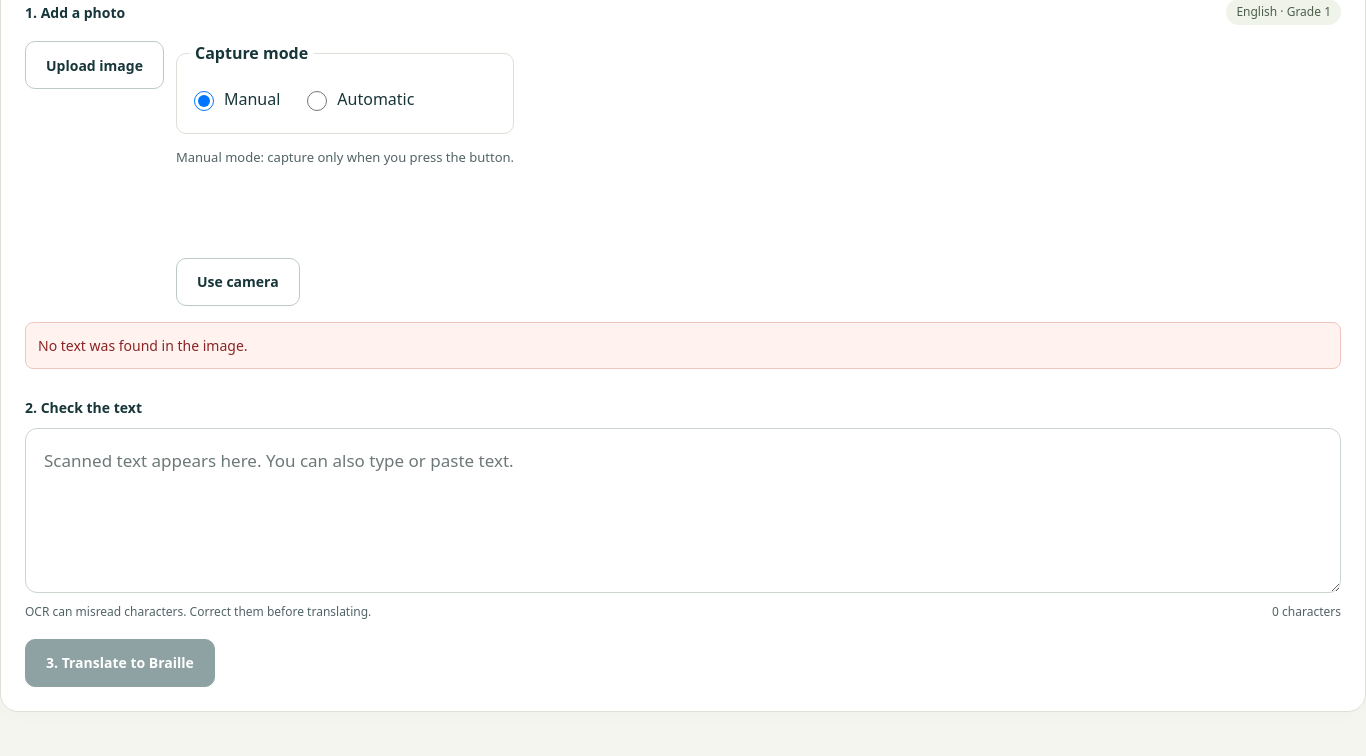
Test case: CameraPanel › shows OCR failures and keeps typing available
Earlier steps of the test are not shown.
(page scrolled)
Expected: the message "No text was found in the image." is shown, [25,322,1341,369]
Type "hi" into the text box labelled "2. Check the text". click: {"x": 683, "y": 510}
box: [25,428,1341,593]
(page scrolled)
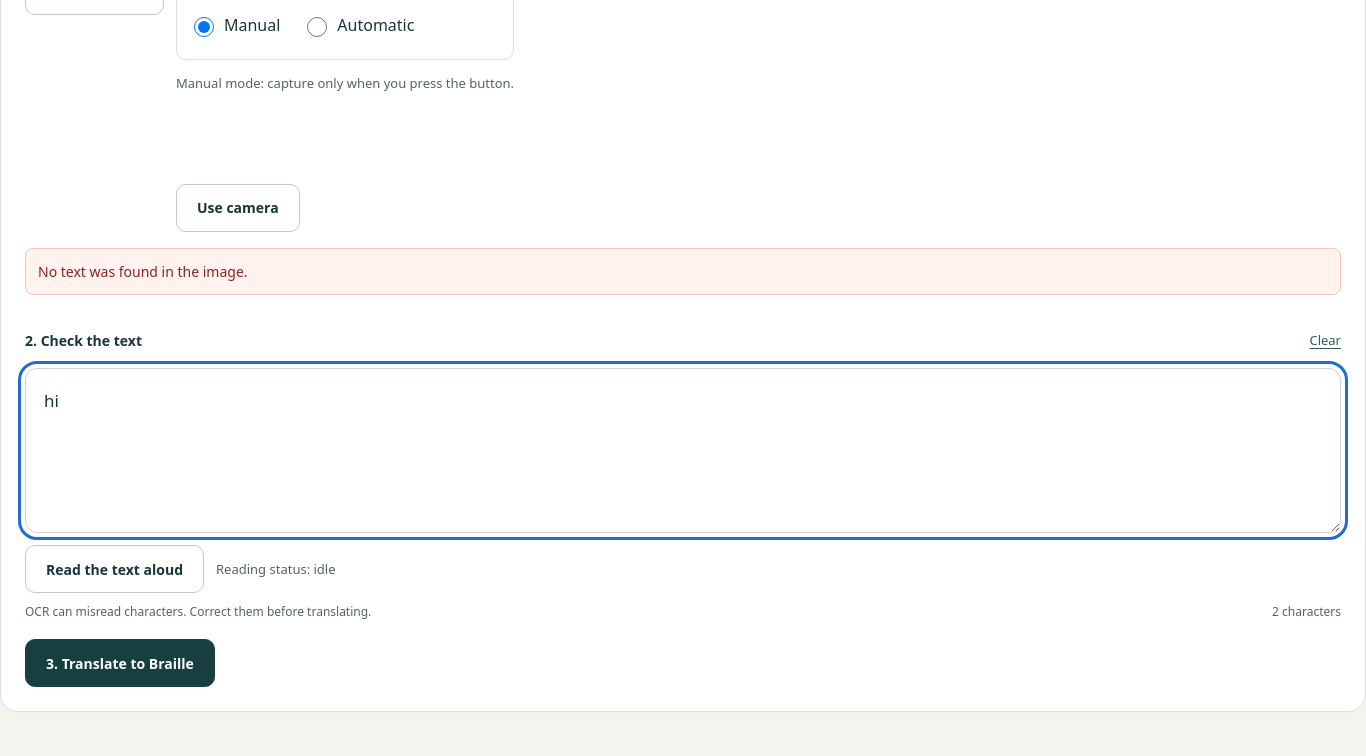
Now the button "3. Translate to Braille" is enabled, box [25,640,215,688]
